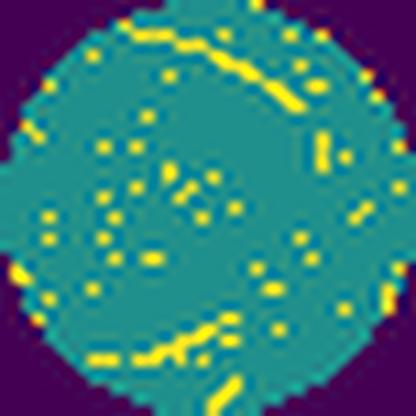Scratch: (110, 18, 310, 119), (126, 310, 240, 372)
